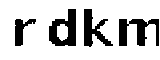d: (47, 6, 78, 47)
k: (82, 6, 115, 51)
m: (115, 13, 160, 51)
r: (12, 14, 39, 51)
